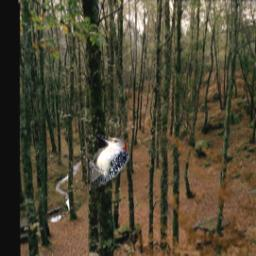Woodpecker: (88, 136, 129, 185)
